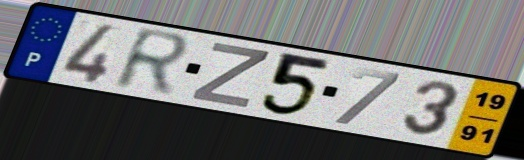3: (398, 80, 461, 139)
4: (61, 21, 115, 85)
5: (258, 50, 337, 119)
7: (331, 65, 404, 127)
R: (109, 24, 196, 99)
Z: (186, 40, 273, 111)
